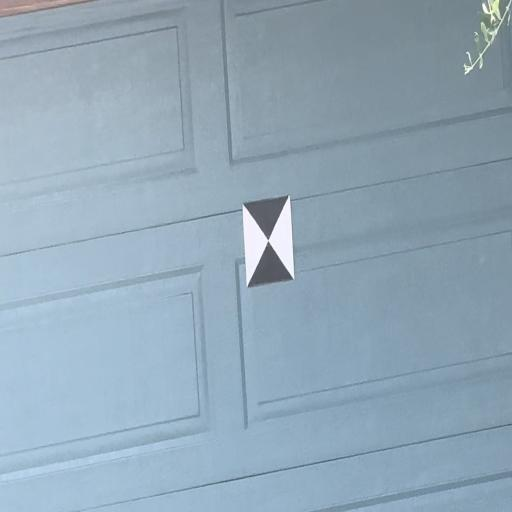target: (245, 195, 295, 286)
